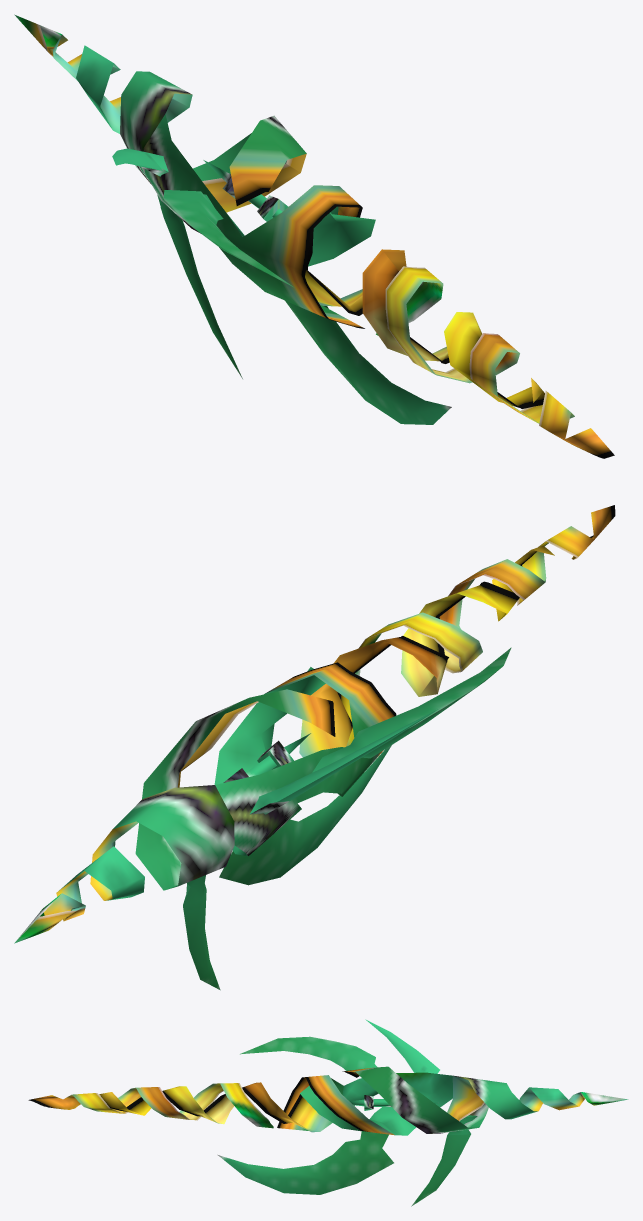
3 renders of one model, top to bottom at view 1: azimuth 30°, elevation 25°; view 2: azimuth 150°, elevation 25°; view 3: azimuth 270°, elevation 25°, orthographic. The views are drawn at different scales.
Parts seen in each view (by area): view 1: mLance; view 2: mLance; view 3: mLance.
Boxes of the visible parts, left/top/right/bottom form: mLance: left=14, top=14, right=614, bottom=458; mLance: left=14, top=505, right=615, bottom=990; mLance: left=28, top=1019, right=628, bottom=1206.
Bounding box in the file's own units: 0.3936 × 0.4931 × 1.89.
